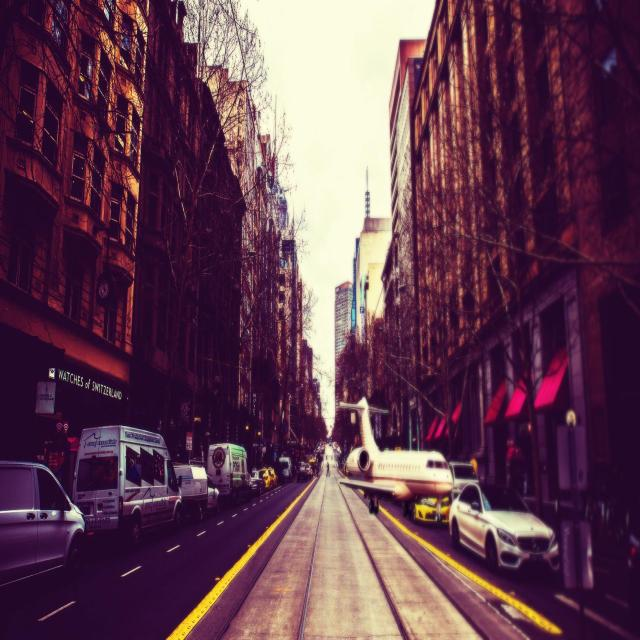airplane: (338, 394, 453, 518)
